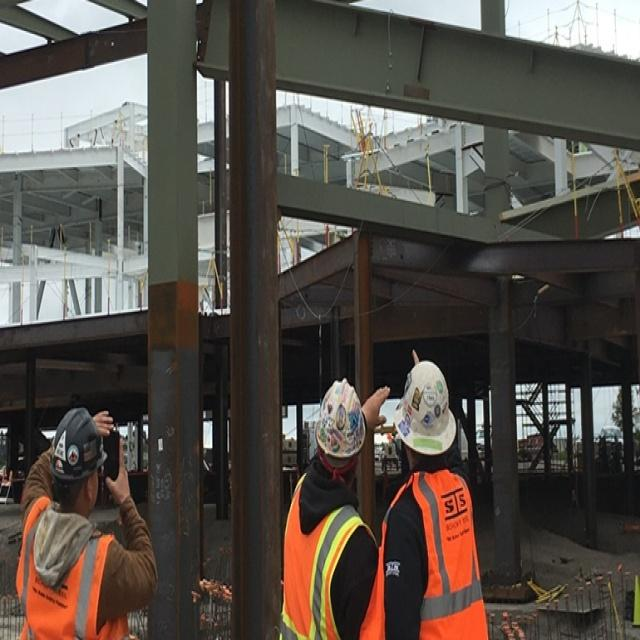helmet: (398, 480, 452, 620), (315, 502, 366, 634)
vest: (387, 621, 486, 640), (275, 637, 381, 640)
